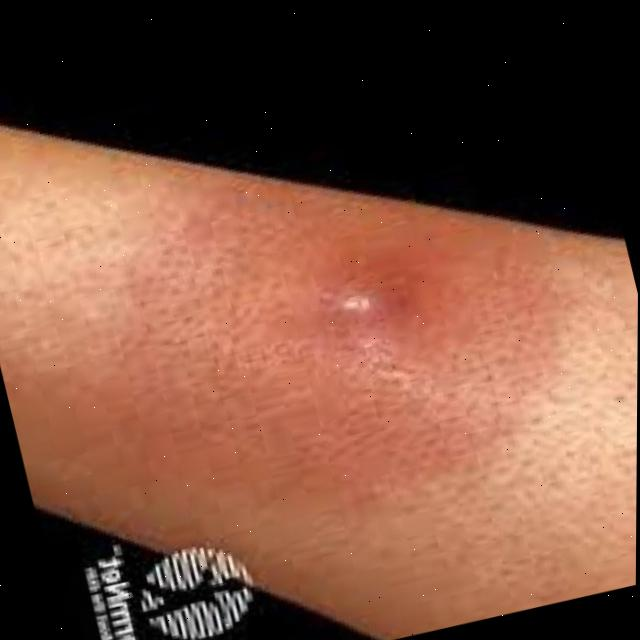Eczema: (233, 190, 550, 493)
